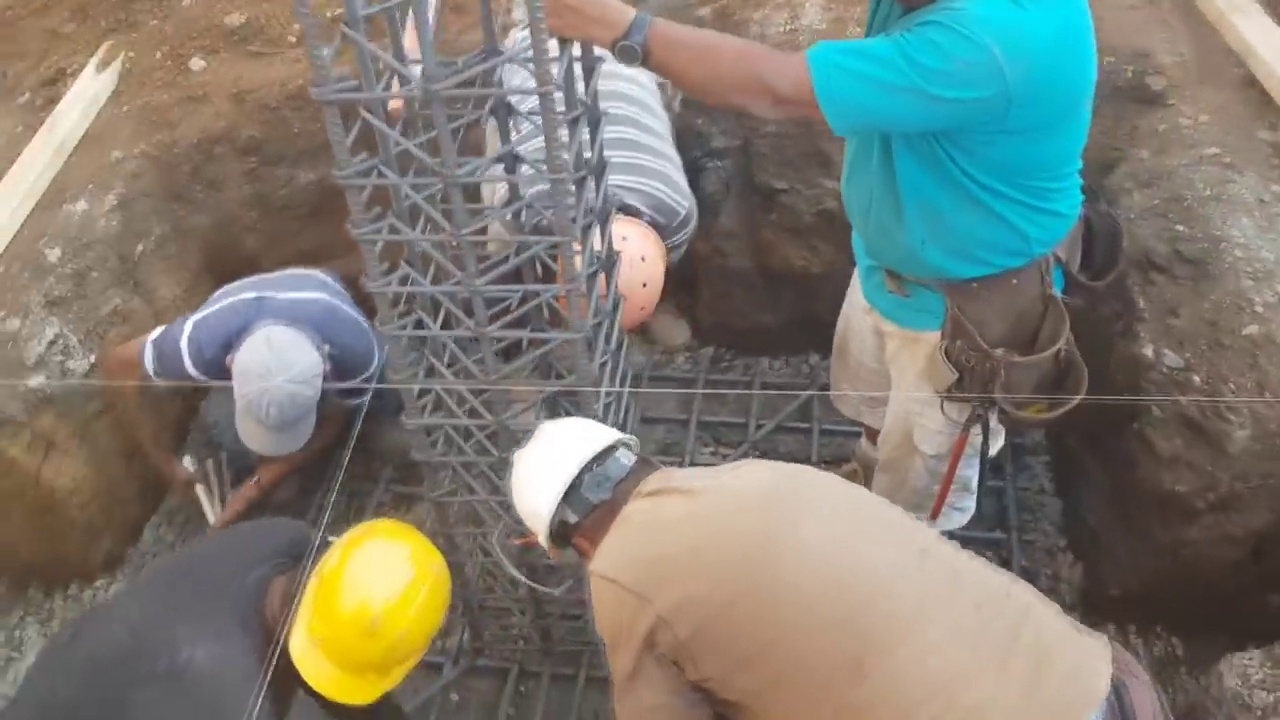helmet: (280, 515, 454, 705), (506, 412, 641, 555), (560, 214, 666, 327)
helmet-off: (216, 324, 336, 464)
helmet-on: (250, 514, 455, 706), (504, 411, 672, 573), (533, 201, 669, 335)
person: (654, 0, 1172, 525), (505, 416, 1172, 720), (1, 511, 462, 719), (474, 2, 705, 350), (108, 265, 385, 528)
